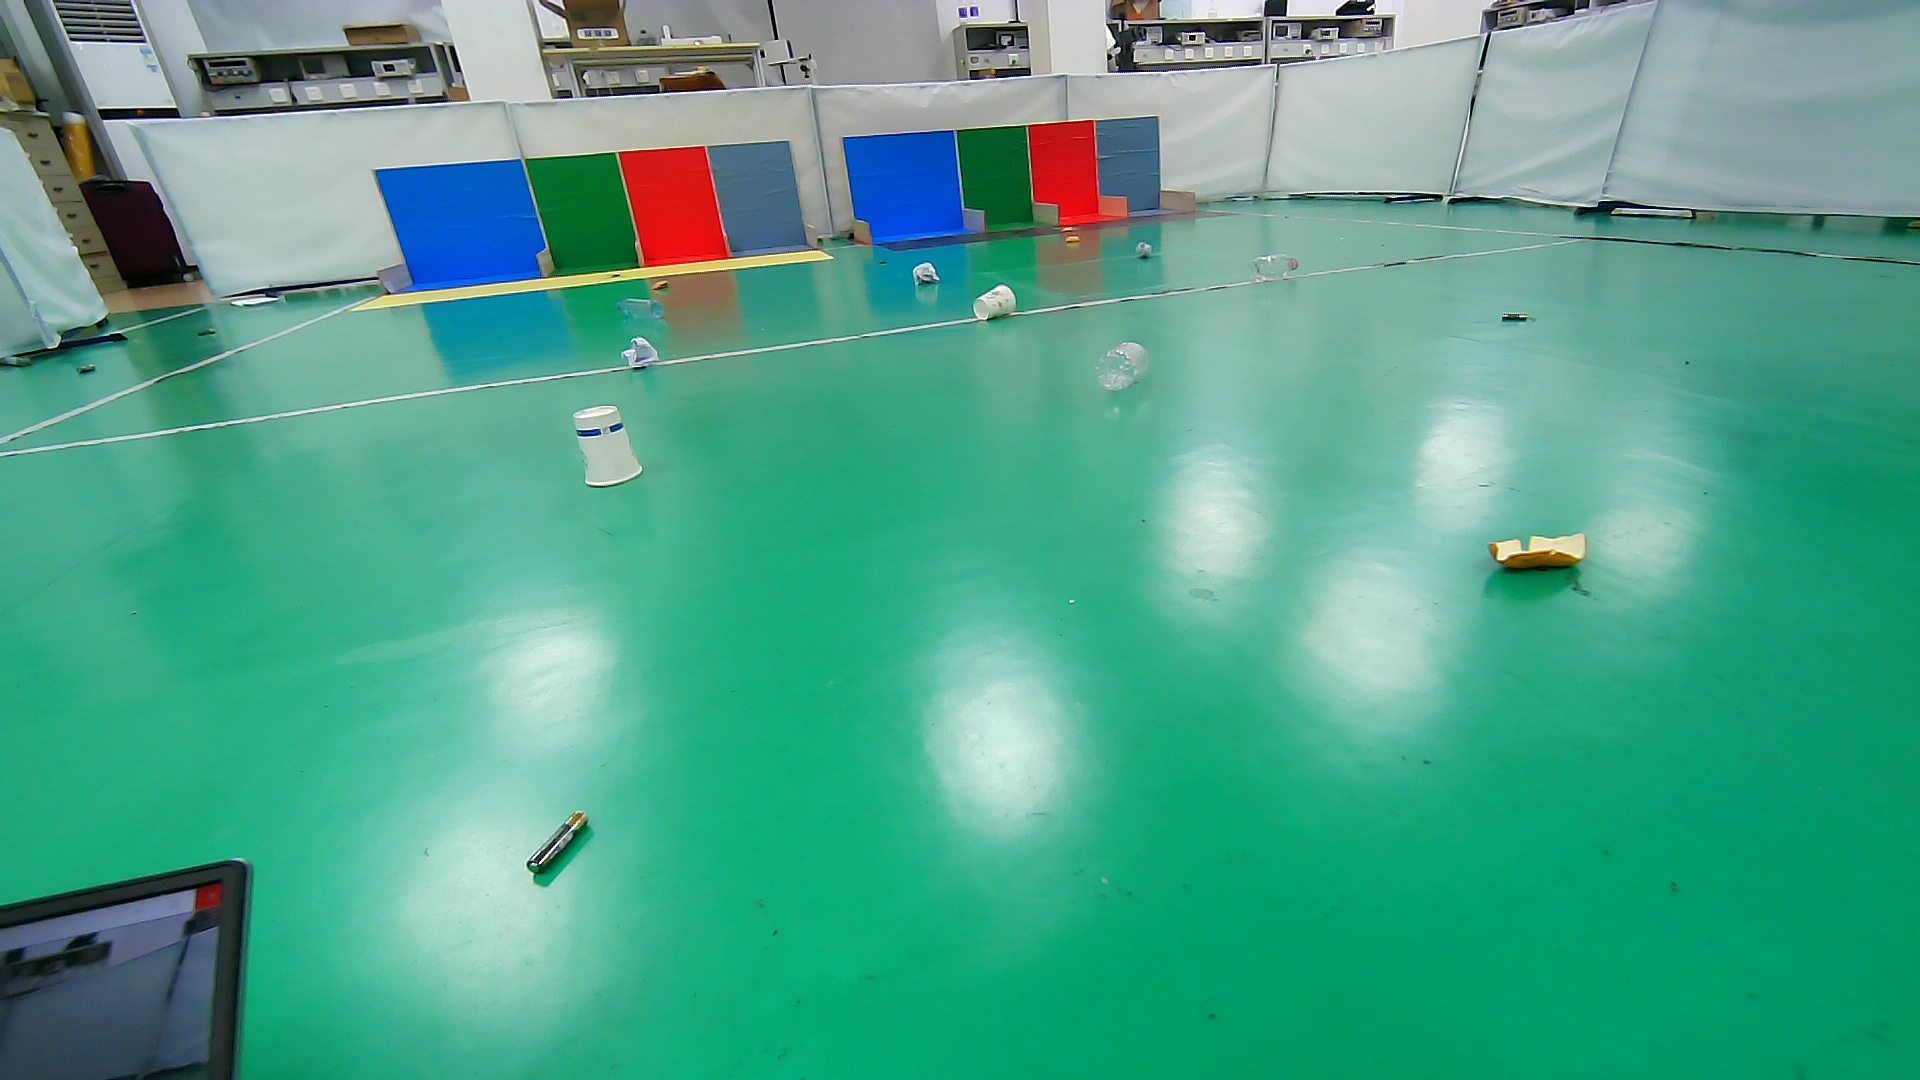battery: (512, 796, 607, 898), (1491, 306, 1539, 328), (69, 357, 105, 378), (189, 320, 225, 342), (872, 255, 895, 269)
bottle: (1092, 338, 1154, 396), (1246, 251, 1302, 285), (615, 295, 667, 320)
orangepeel: (1476, 524, 1601, 585), (1058, 231, 1087, 247), (647, 276, 674, 293)
papercup: (568, 400, 647, 491), (971, 282, 1019, 322)
spitball: (618, 335, 661, 373), (910, 260, 943, 289), (1131, 239, 1155, 261)
